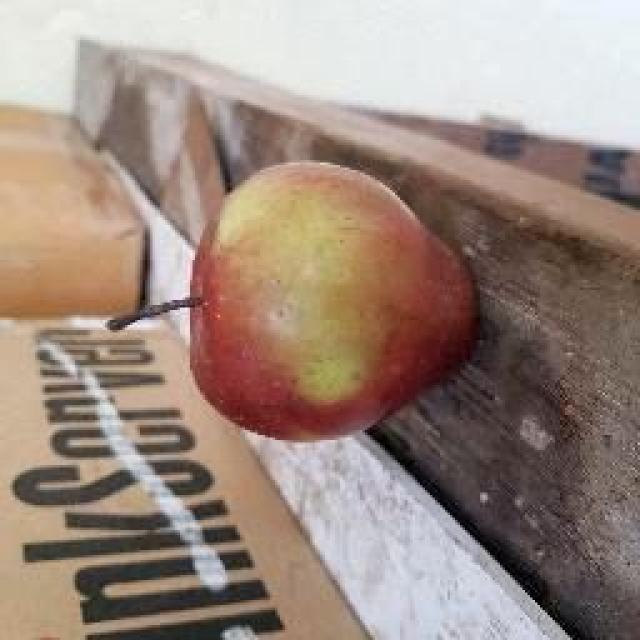Good_Apple: (190, 160, 480, 445)
